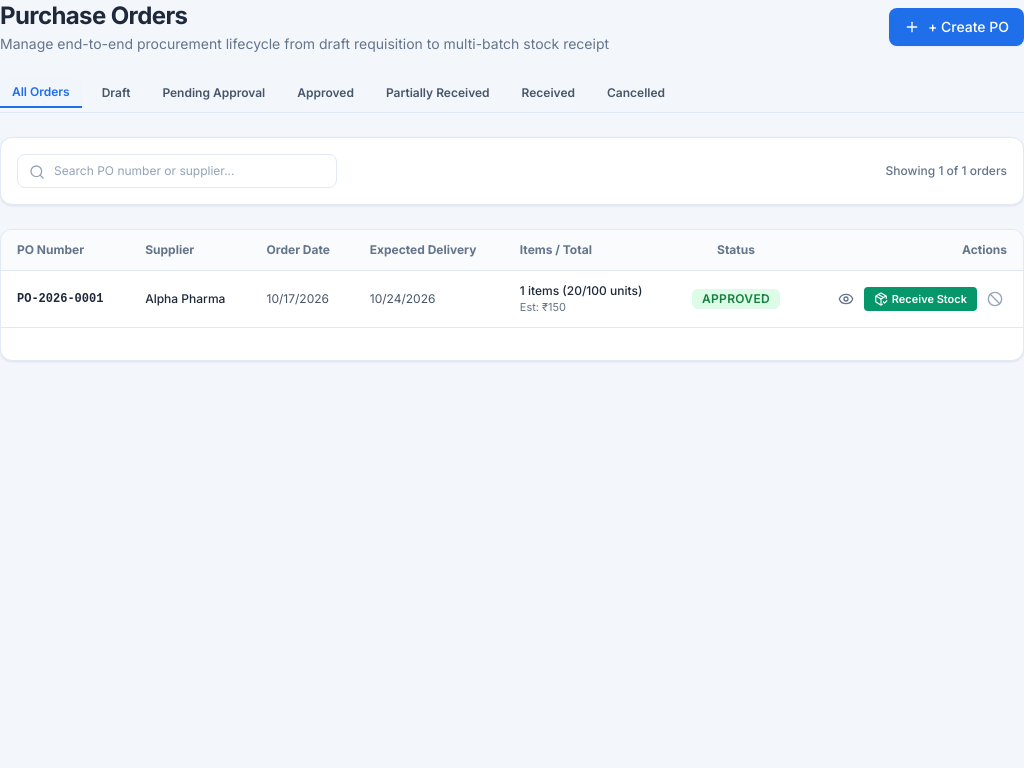
Test: Phase 7 Client Tests › Purchase Orders — Receive Form Validation › rejects receiving when expiry date is not after manufacturing date
The image size is (1024, 768).
Expected: the text "PO-2026-0001" is shown, [1, 270, 129, 327]
Click the button titled "Receive Stock": click(920, 299) [864, 287, 977, 311]
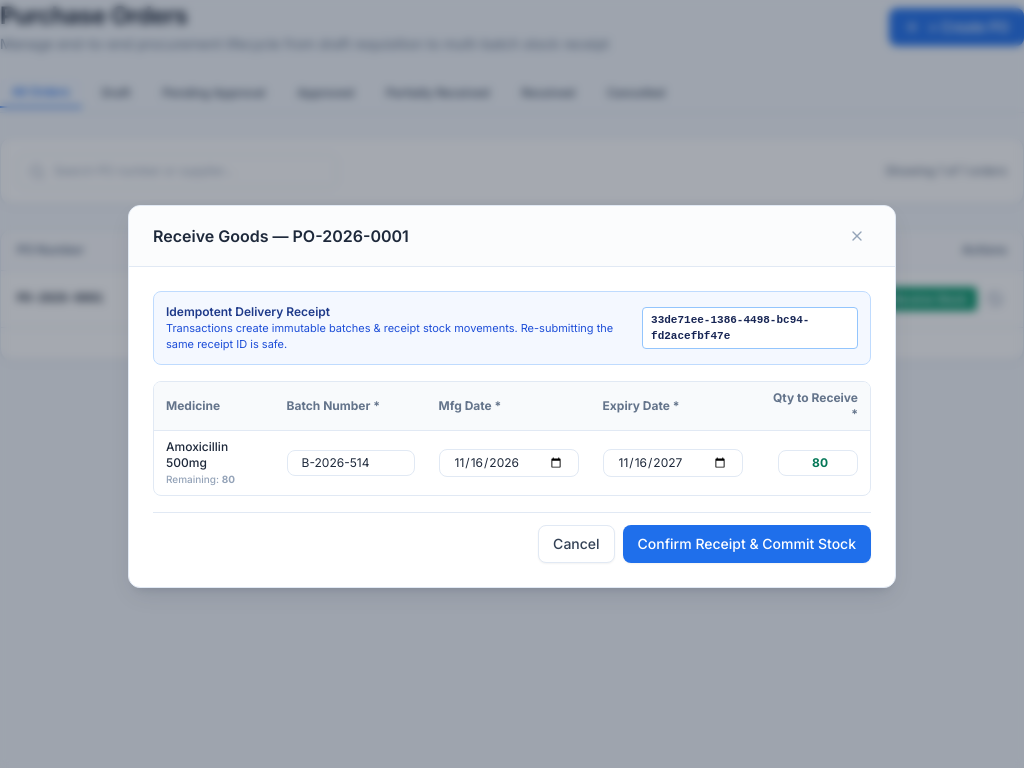
Result: the heading "Receive Goods — PO-2026-0001" is shown at [153, 224, 409, 248]
// Set quantity to valid 50
Replace the text in the number field with "50": (818, 462) [778, 450, 858, 476]
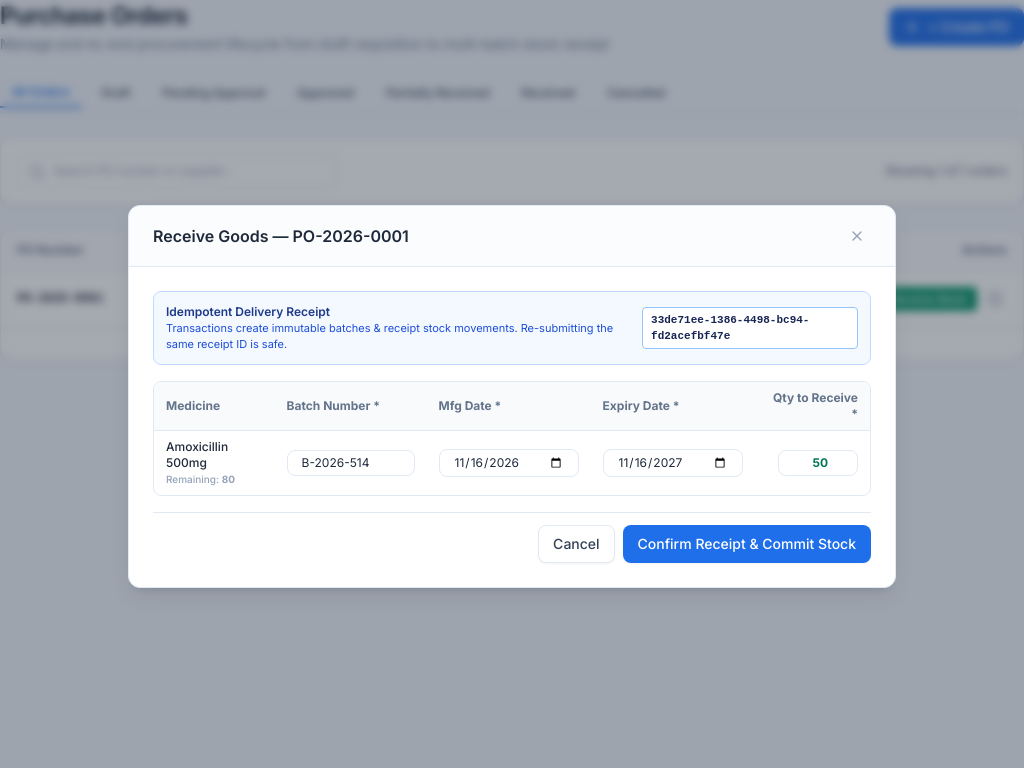
// Set expiry date earlier than manufacturing date
In the 1st date field: (509, 462) [439, 448, 579, 476], type "2026-10-15"
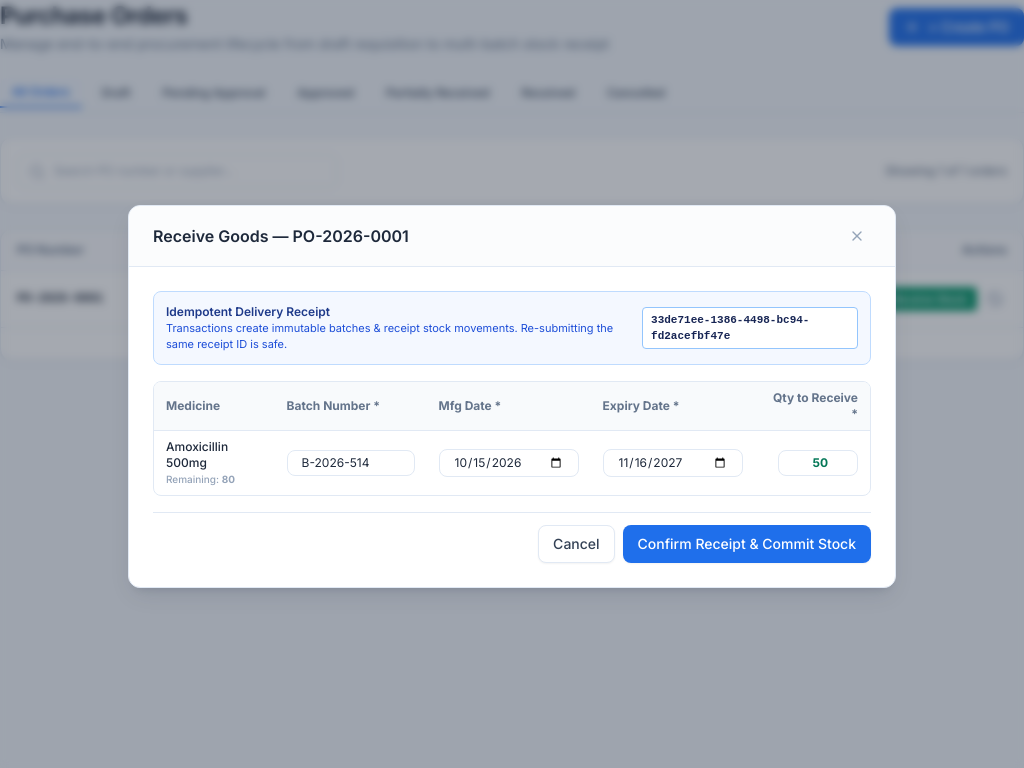
In the 2nd date field: (673, 462) [603, 448, 743, 476], type "2026-10-10"
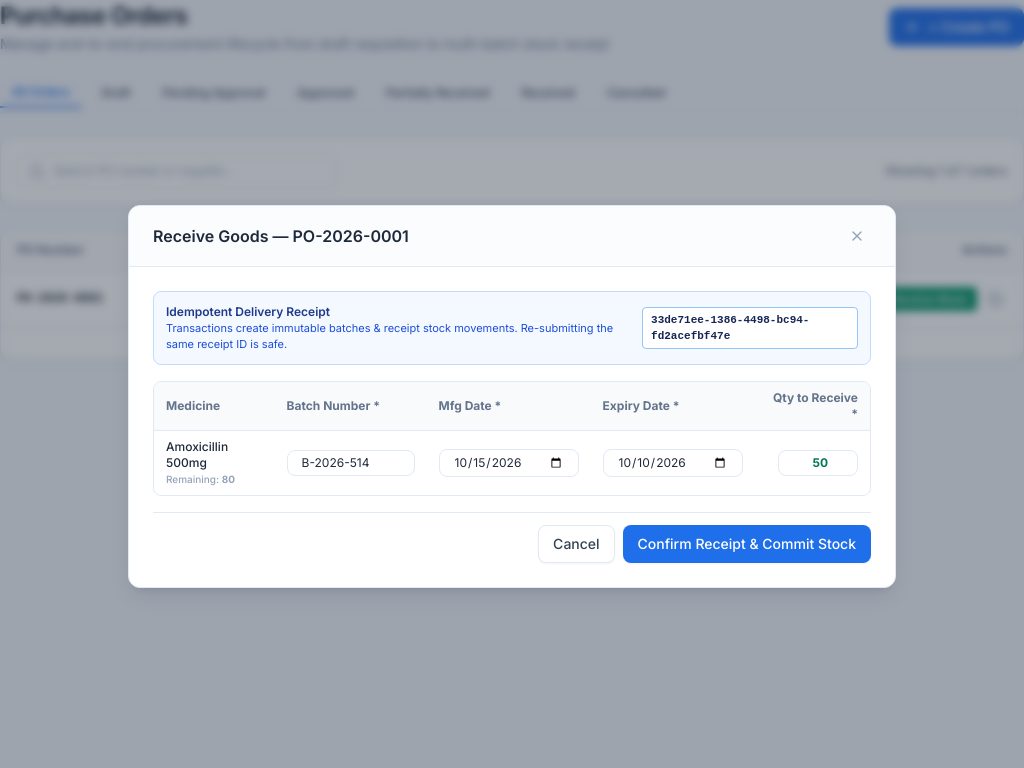
Click the button "Confirm Receipt & Commit Stock": click(747, 544) [623, 524, 871, 562]
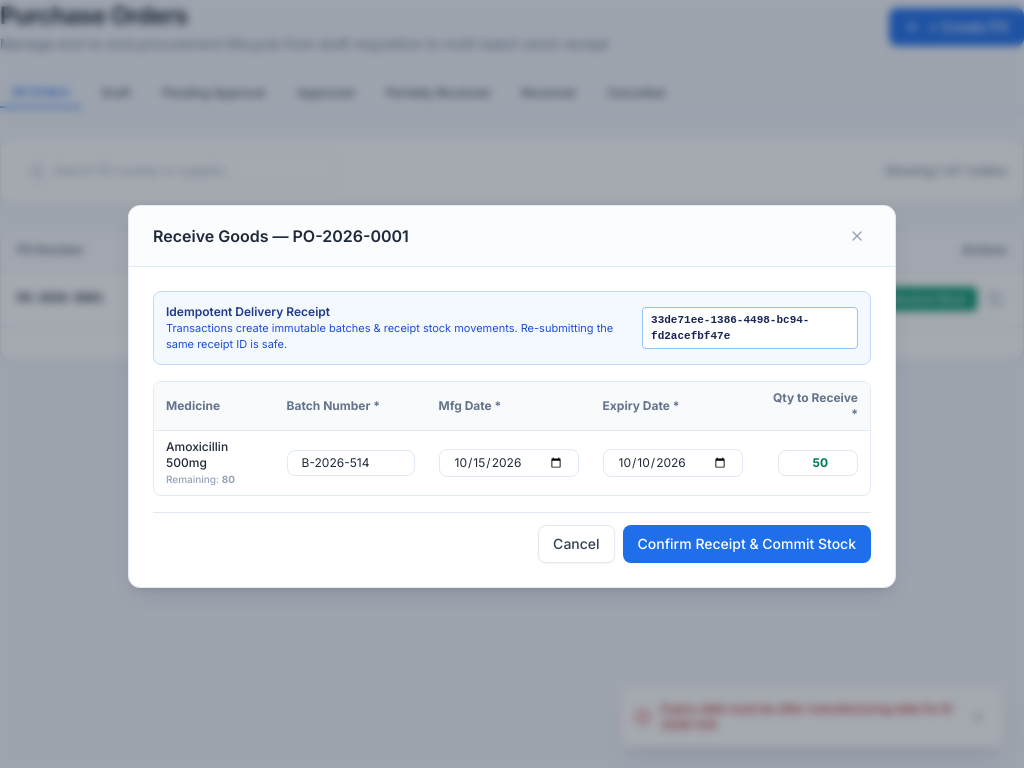
Result: the text "Expiry date must be after manufacturing date for B-2026-514" is shown at [661, 701, 967, 733]
